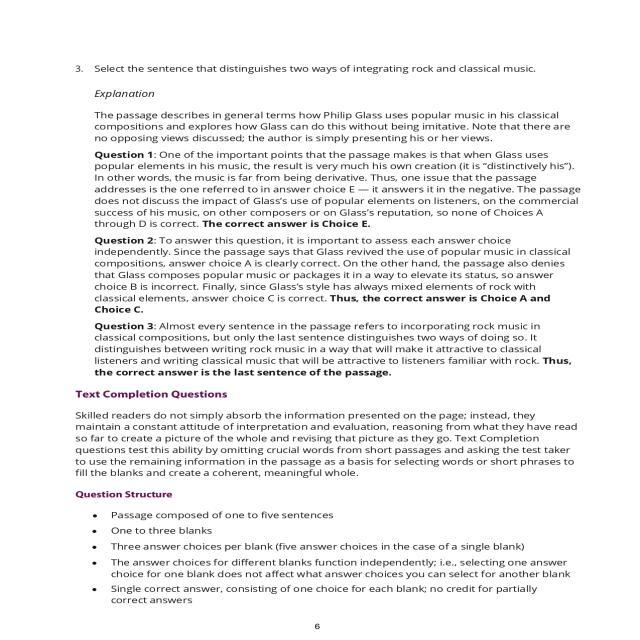Question_Paper_Area: (45, 56, 605, 640)
